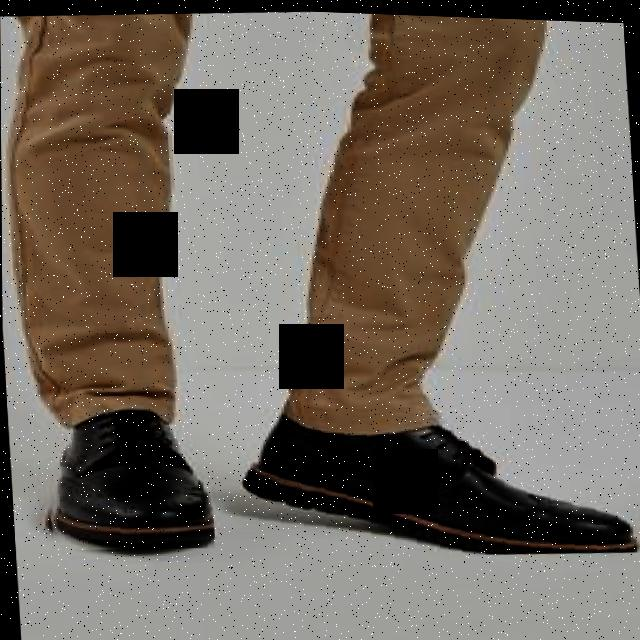shoe: (240, 386, 640, 568), (35, 397, 215, 555)
